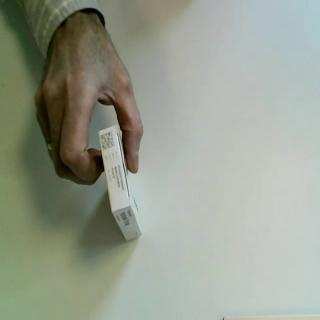oxycontin15mg: (98, 124, 146, 244)
